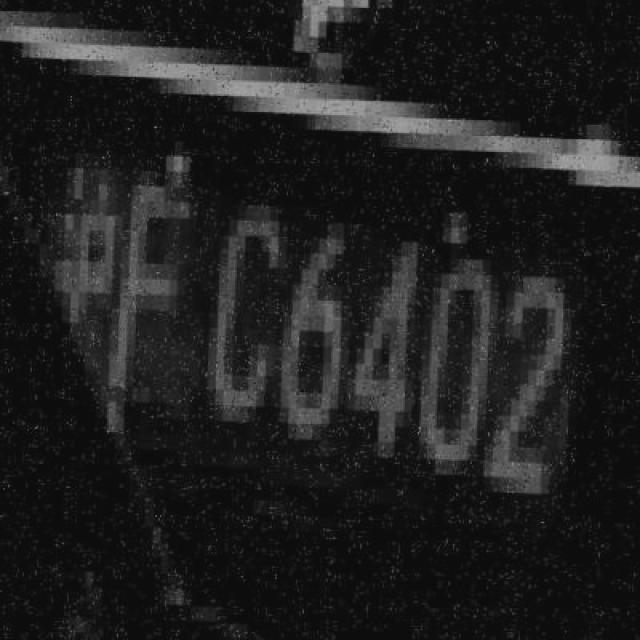licenseplate: (35, 82, 600, 587)
